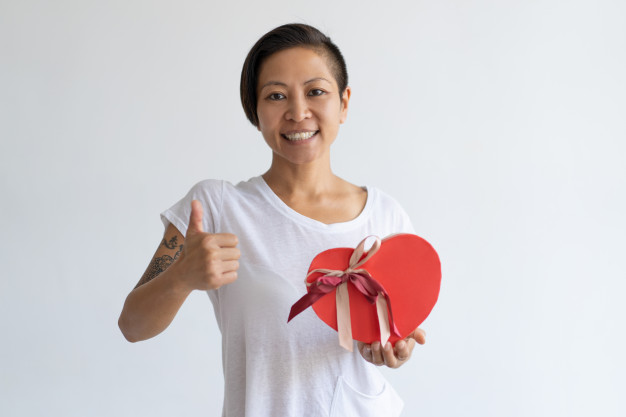thumbsup: (188, 199, 240, 289)
